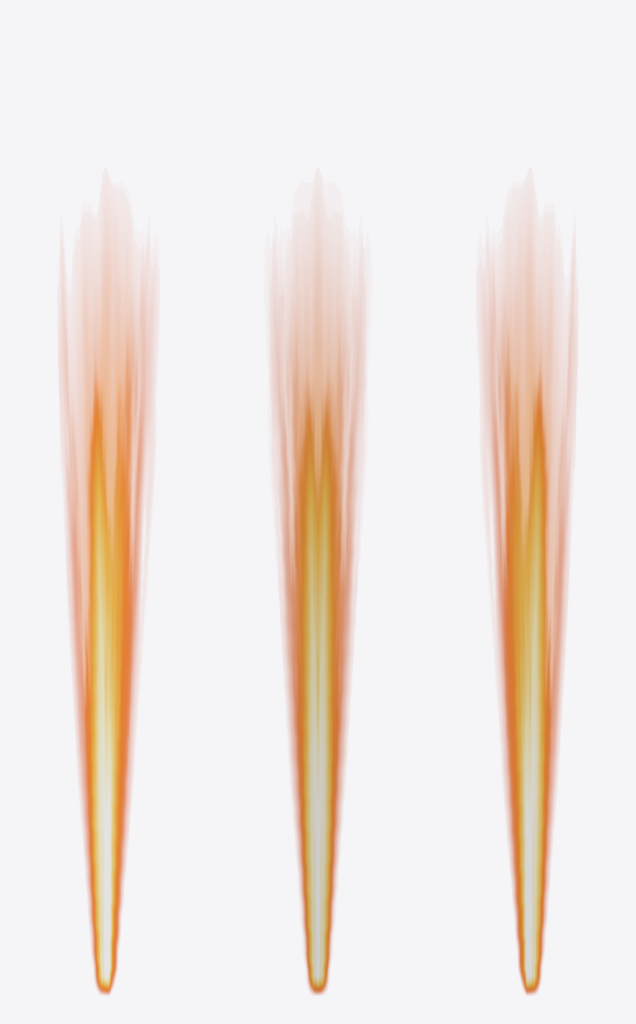
File: trail_flame_fire.glb
3 views of the same model, side by side, from view 1: azimuth 30°, elevation 25°; view 2: azimuth 150°, elevation 25°; view 3: azimuth 270°, elevation 25° (orthographic).
Parts seen in each view (by area): view 1: flame; view 2: flame; view 3: flame.
Boxes of the visible parts, <box> form: flame: <box>61,224,152,994</box>; flame: <box>272,224,363,994</box>; flame: <box>483,224,574,994</box>.
Size of the model in its own units: 11.8 by 58 by 10.22.
1 material, 1 textured.
